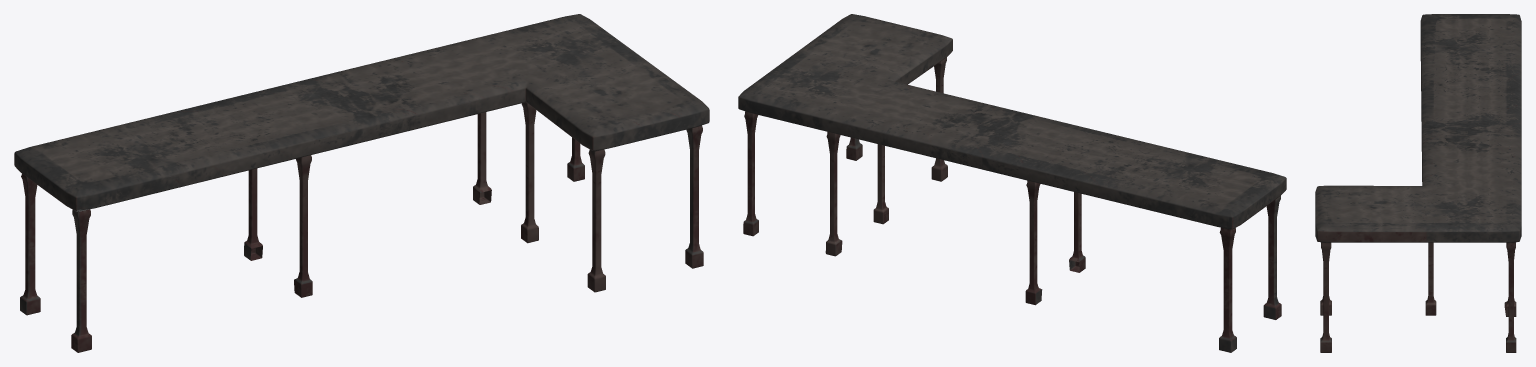
Rendered from Mesa_L_NEC_CENA.fbx.
The picture shows the model from 3 angles, left to right: view 1: azimuth 30°, elevation 25°; view 2: azimuth 150°, elevation 25°; view 3: azimuth 270°, elevation 25°; orthographic projection. The views are drawn at different scales.
Parts seen in each view (by area): view 1: MesaEmL; view 2: MesaEmL; view 3: MesaEmL.
Part boxes in pixels (x1,y1,x2,y2): MesaEmL: (14,14,709,352); MesaEmL: (738,14,1286,352); MesaEmL: (1315,14,1521,352).
Size of the model in its own units: 289 by 78.14 by 116.
Materials: 1 (1 with a texture image).
